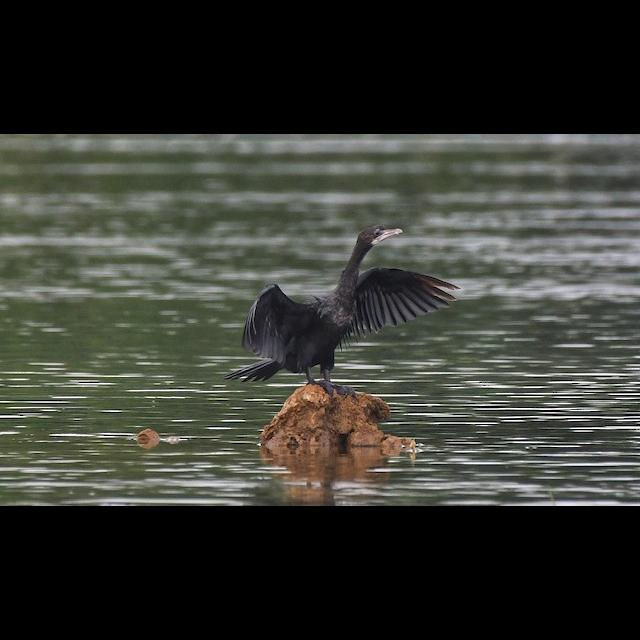cormorant: (237, 222, 458, 398)
